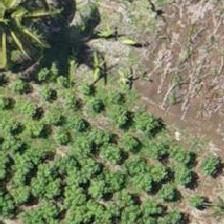coconut_tree: (0, 0, 45, 61)
